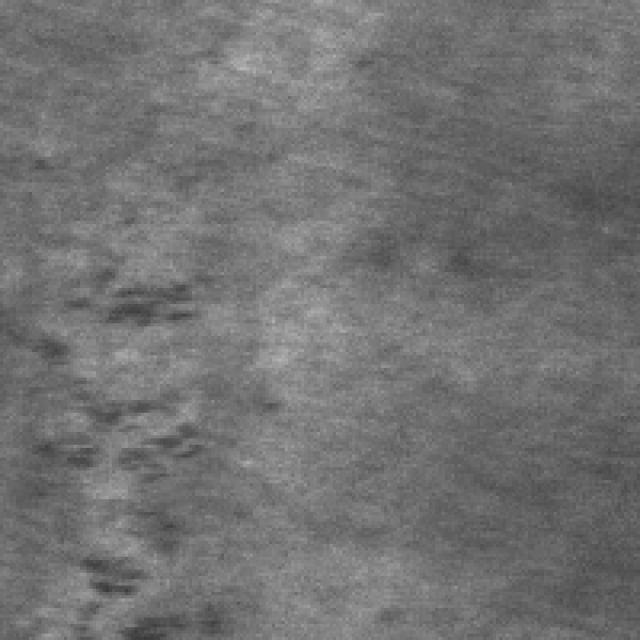rolled-in_scale: (45, 256, 230, 637)
